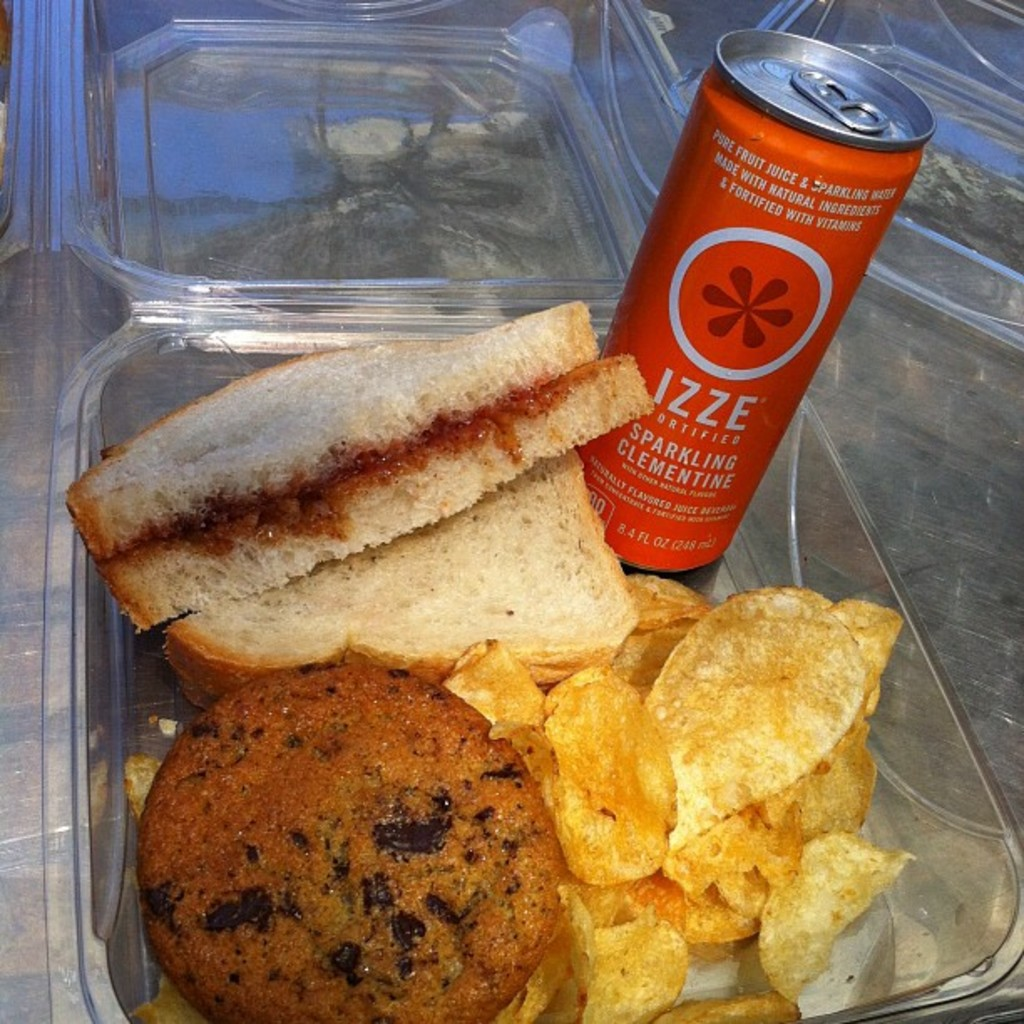sandwich: (69, 303, 658, 636), (152, 453, 634, 708)
